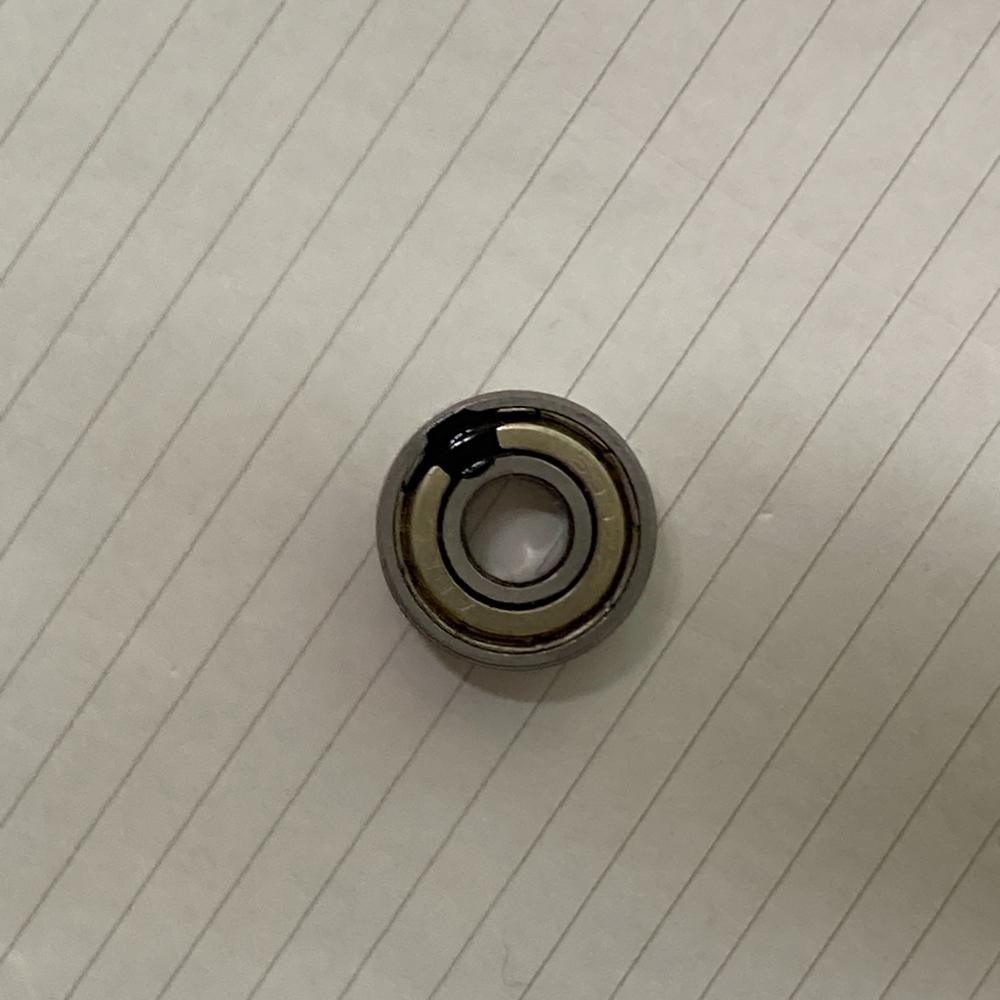ball_bearing_oil_stain: (372, 387, 661, 672)
